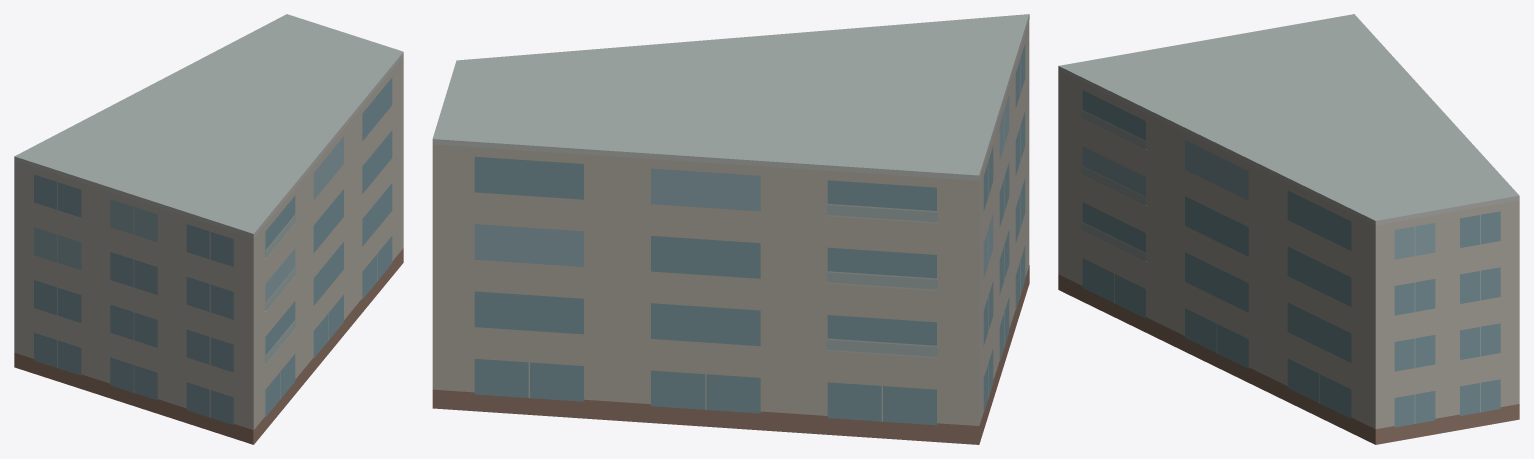
Rendered from survey-upis-32908961.glb.
3 views of the same model, side by side, from view 1: azimuth 30°, elevation 25°; view 2: azimuth 150°, elevation 25°; view 3: azimuth 270°, elevation 25° (orthographic). The views are drawn at different scales.
Parts seen in each view (by area): view 1: survey-upis-32908961.tmp; view 2: survey-upis-32908961.tmp; view 3: survey-upis-32908961.tmp.
Boxes of the visible parts, box(x1,y1,x2,y2) form: survey-upis-32908961.tmp: box(14, 14, 403, 444); survey-upis-32908961.tmp: box(432, 14, 1029, 444); survey-upis-32908961.tmp: box(1058, 14, 1519, 444).
Bounding box in the file's own units: 23.98 × 12.1 × 22.58.
